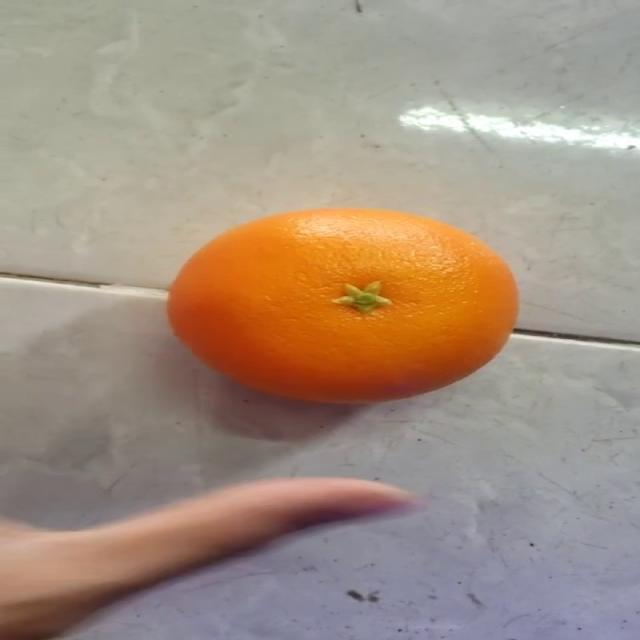Orange: (165, 205, 519, 405)
